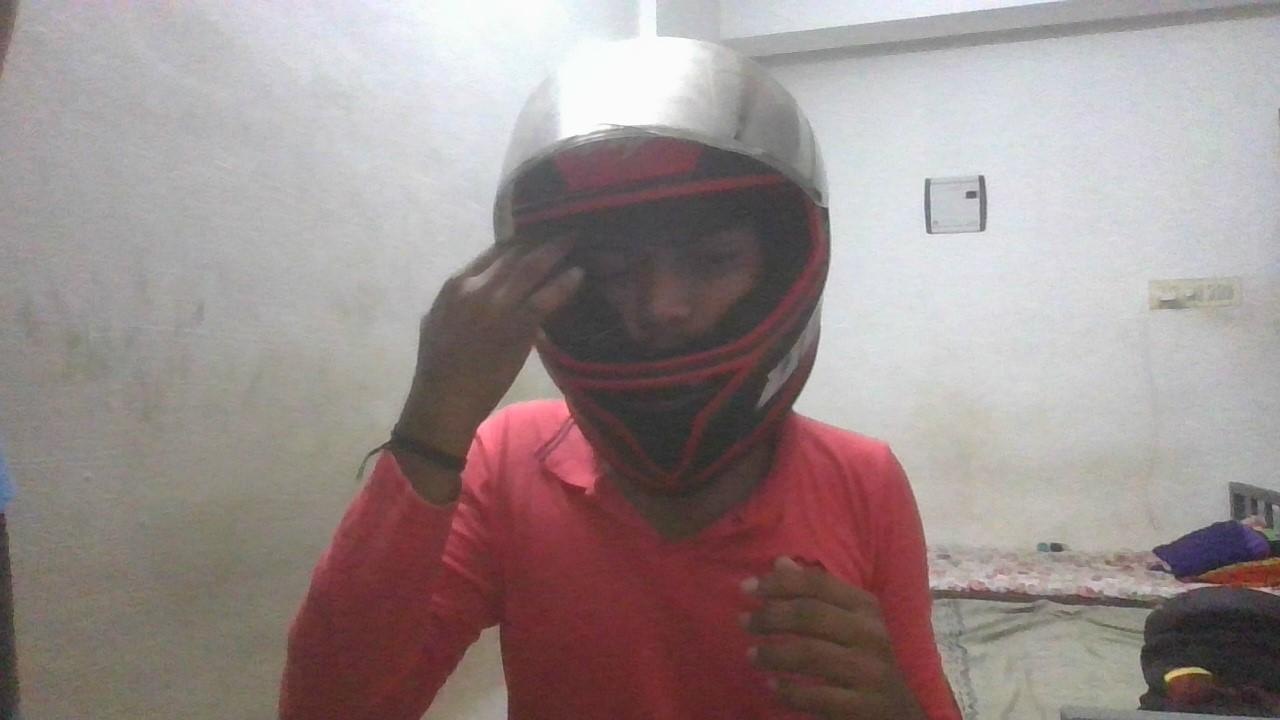helmet: (491, 35, 833, 497)
